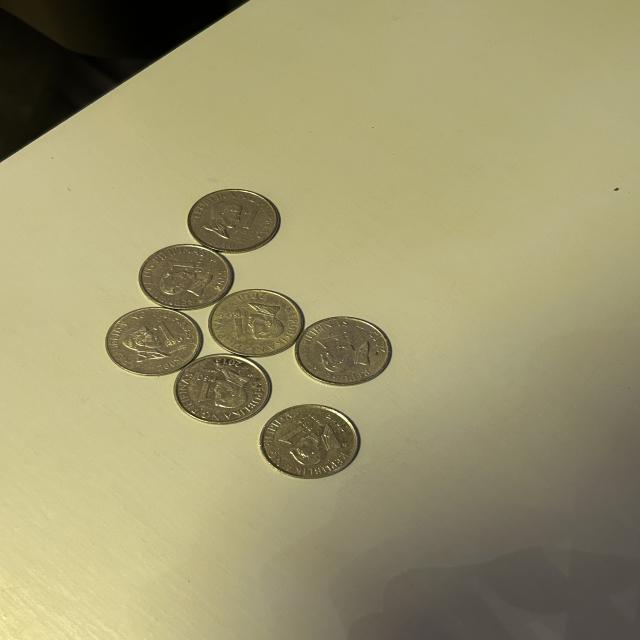1_Old_Front: (222, 305, 254, 346), (273, 416, 313, 447), (153, 318, 184, 352), (315, 328, 362, 350), (165, 257, 207, 278), (194, 371, 217, 409), (236, 208, 259, 234)
